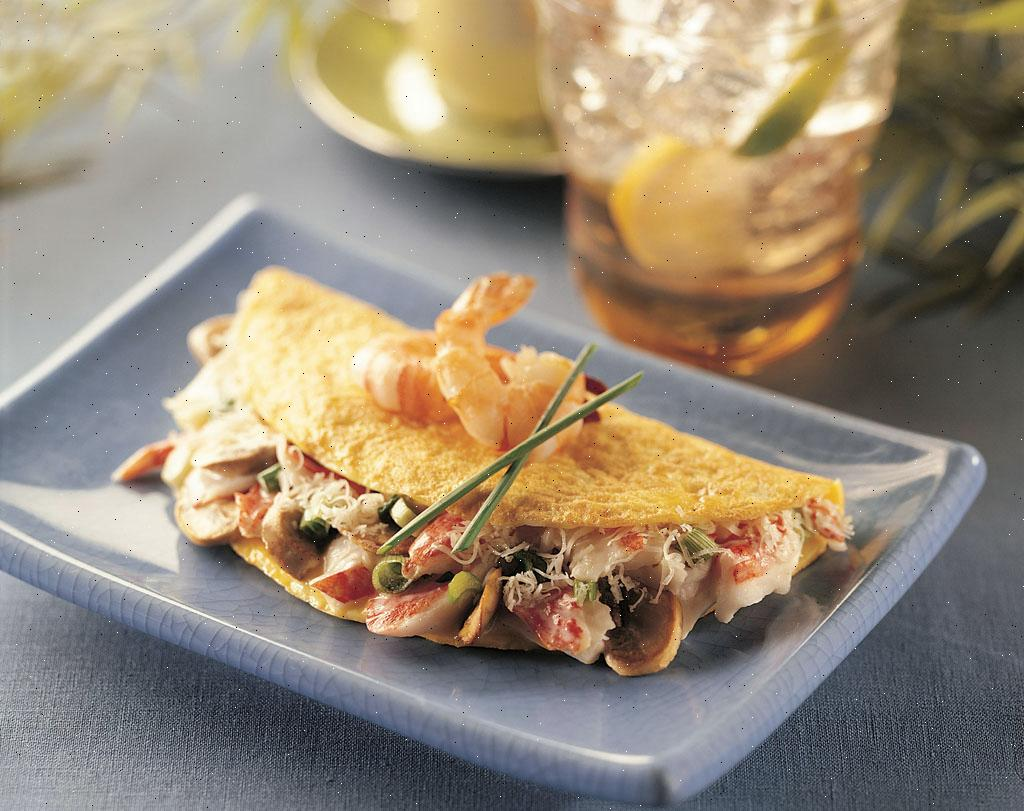omelette: (171, 277, 808, 697)
